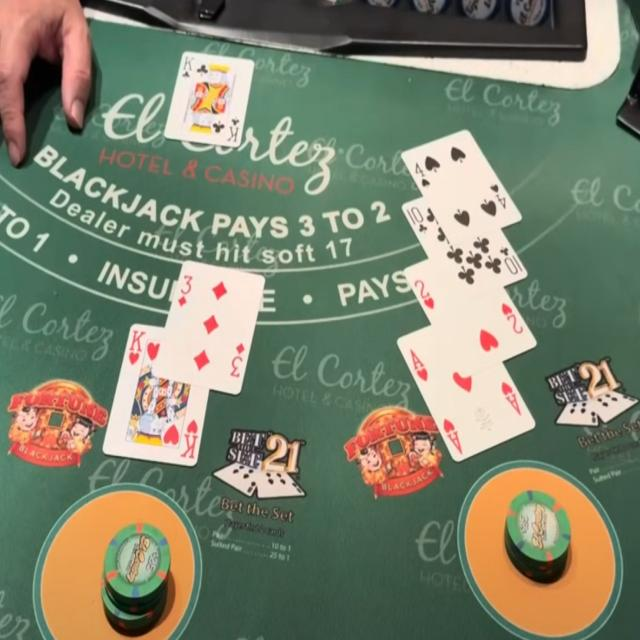10: (405, 204, 424, 225)
2: (414, 277, 431, 299)
3: (180, 274, 194, 296)
4: (412, 160, 426, 180)
A: (408, 346, 427, 369)
K: (129, 330, 146, 353), (182, 52, 195, 72)
